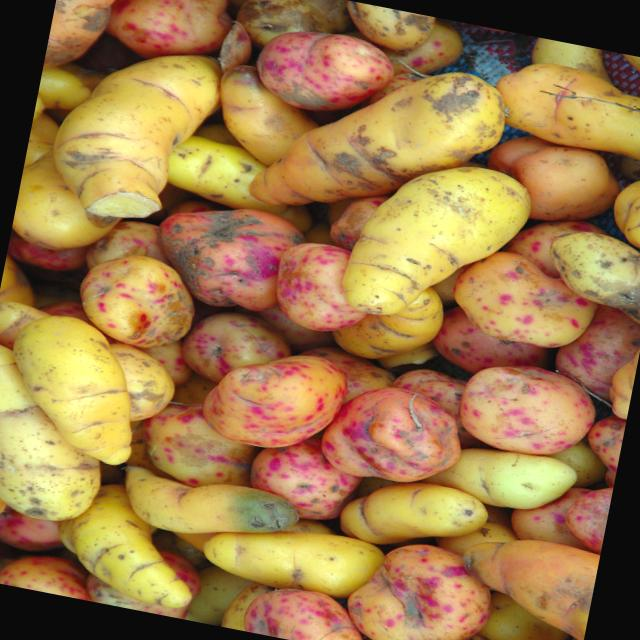strawberry: (336, 146, 532, 335), (0, 302, 156, 473), (202, 508, 382, 604), (440, 430, 579, 516)
